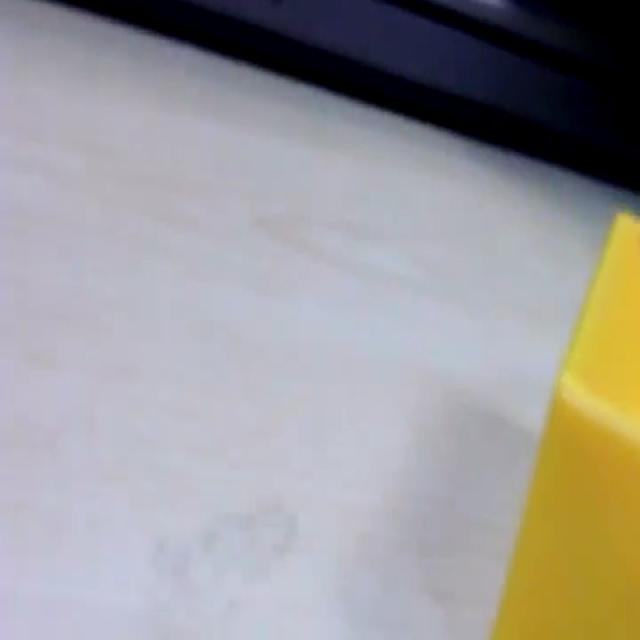yellow_block: (488, 208, 638, 636)
